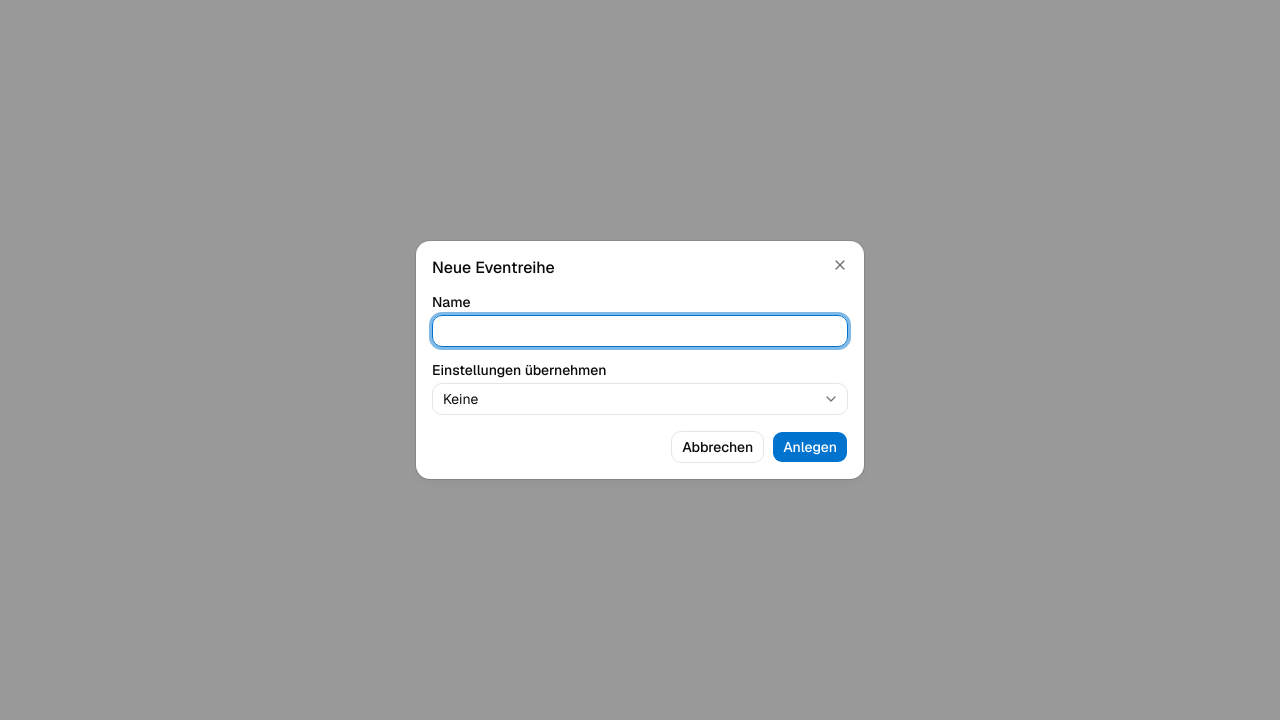
Test: EventSeriesFormDialog — creating › blocks an empty name and never reaches the server
The width and height of the screenshot is (1280, 720).
Click the button "Anlegen" at (810, 447), box [772,431,848,463]
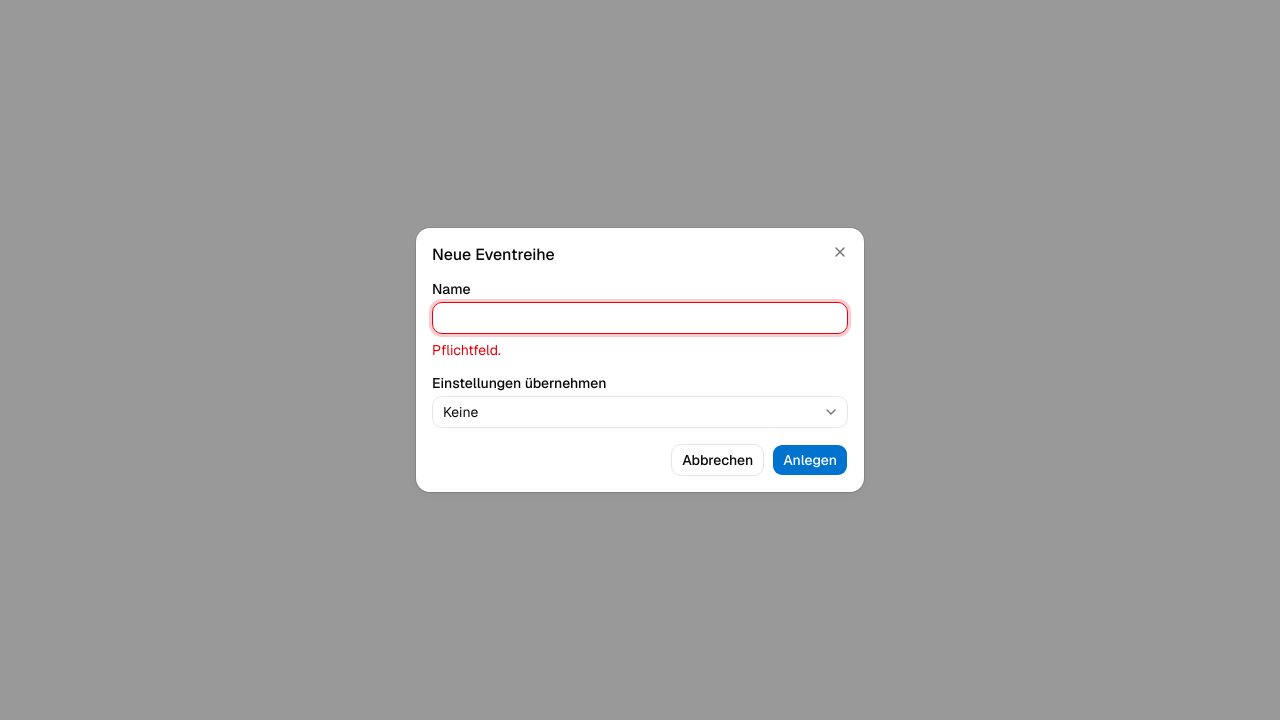
Expected: the text "Pflichtfeld." is shown, [432,341,501,359]
